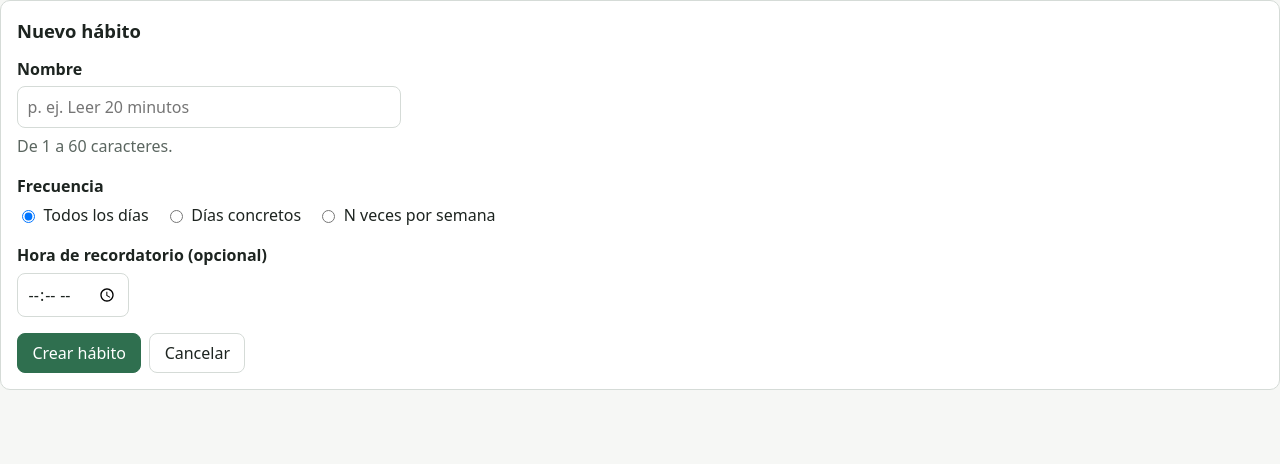
HabitForm (FR1.1–FR1.3, FR6.1) › rechaza días concretos sin ningún día marcado
Type "Correr" into the field labelled "Nombre" at (209, 107), box 17,86 -> 401,128
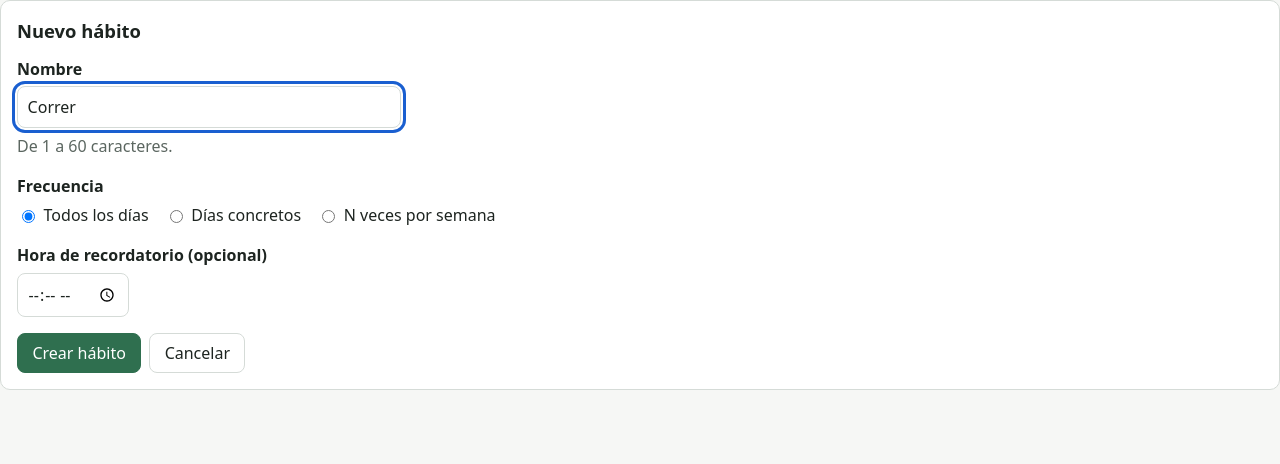
Click the radio button labelled "Días concretos" at (176, 217), box 170,210 -> 183,223
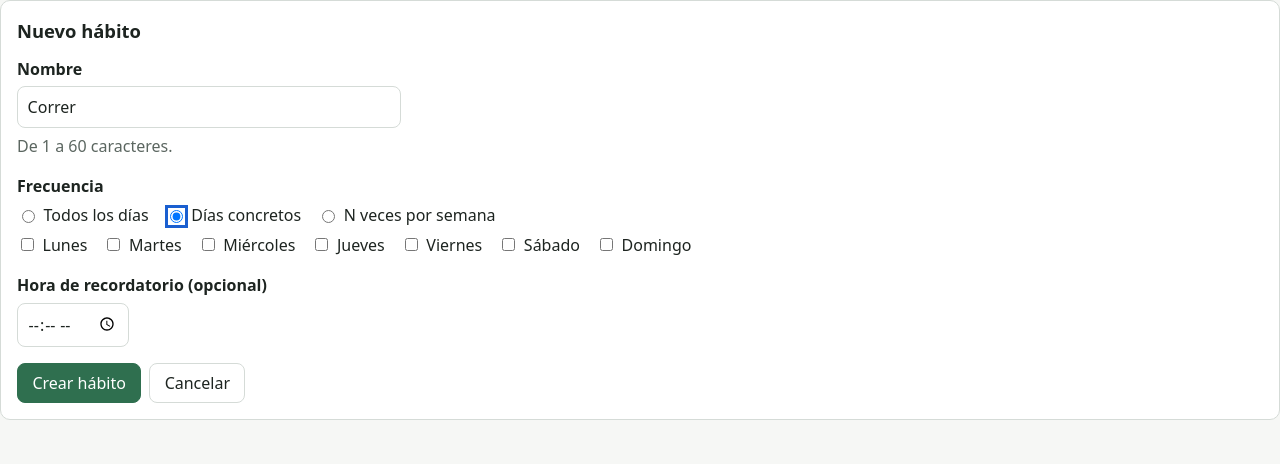
Click the button with test id "habit-save" at (79, 383), box 17,363 -> 141,403
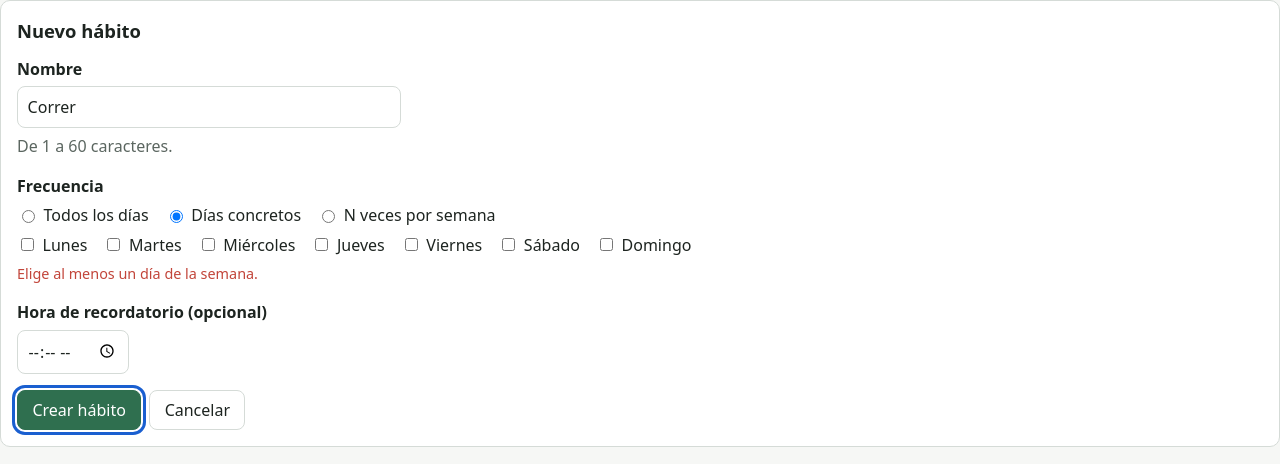
Now the message with test id "habit-frequency-error" shows "al menos un día", box 17,264 -> 258,283
